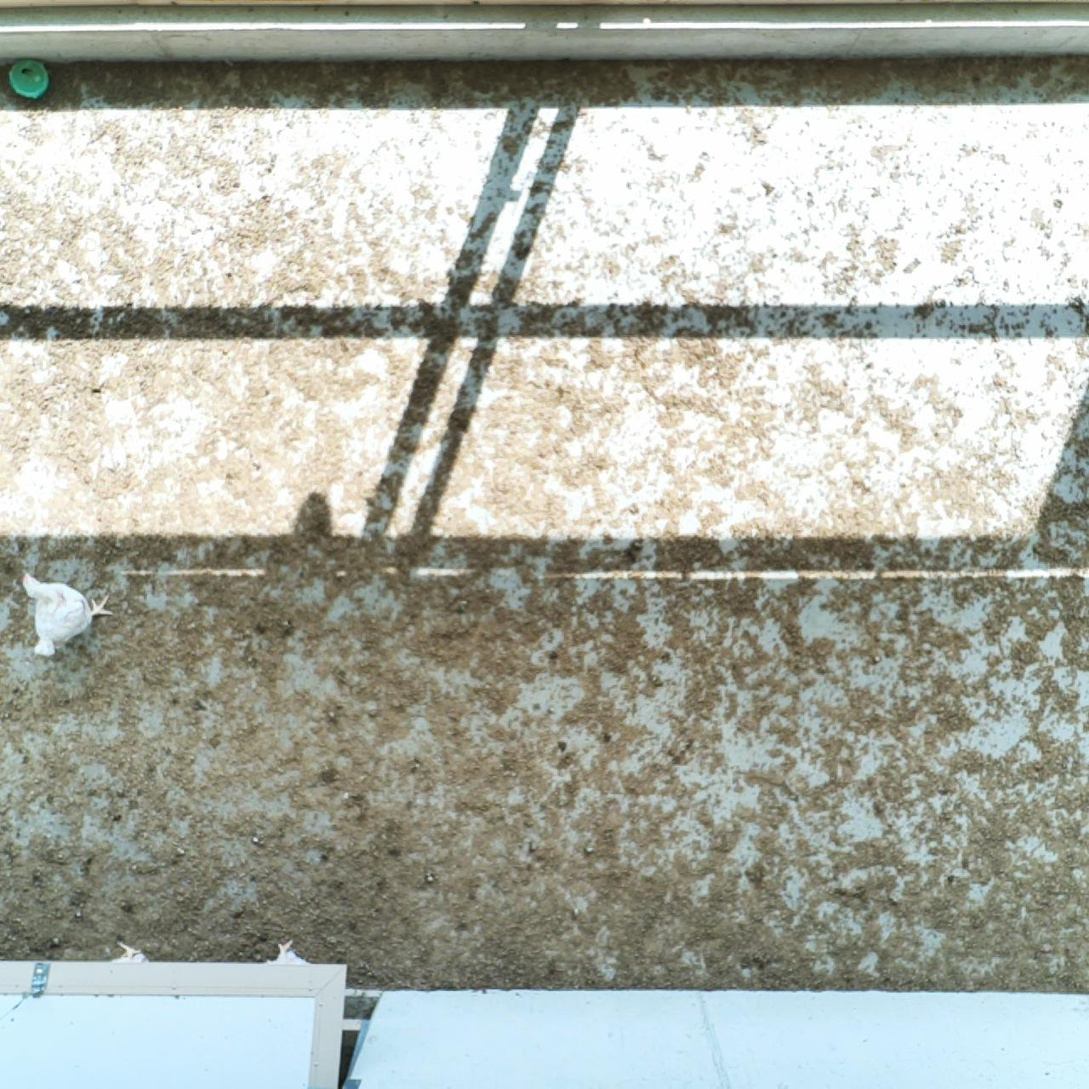chicken: (13, 563, 116, 661)
